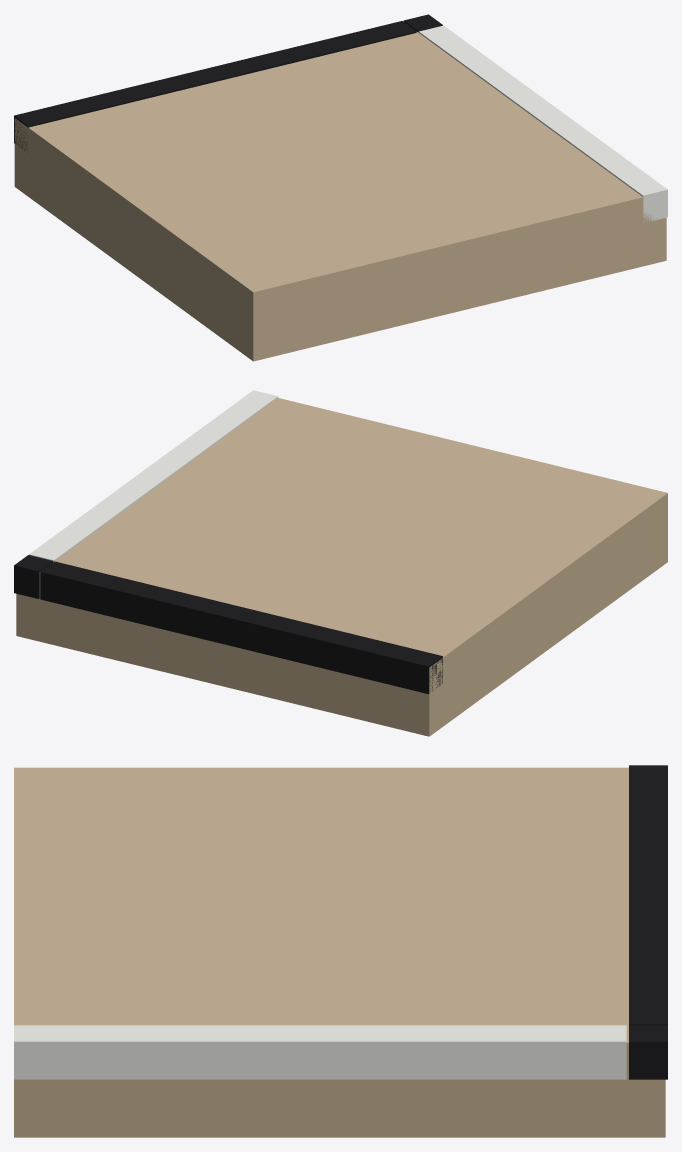
Rendered from env_curb_corner.fbx.
3 views of the same model, one above another, from view 1: azimuth 30°, elevation 25°; view 2: azimuth 150°, elevation 25°; view 3: azimuth 270°, elevation 25° (orthographic). The views are drawn at different scales.
Parts seen in each view (by area): view 1: env_curb_corner_geo; view 2: env_curb_corner_geo; view 3: env_curb_corner_geo.
Part boxes in pixels (left/top/right/bottom): env_curb_corner_geo: left=14, top=14, right=667, bottom=361; env_curb_corner_geo: left=14, top=390, right=667, bottom=736; env_curb_corner_geo: left=14, top=765, right=667, bottom=1137.
Size of the model in its own units: 3.01 by 0.491 by 3.01.
